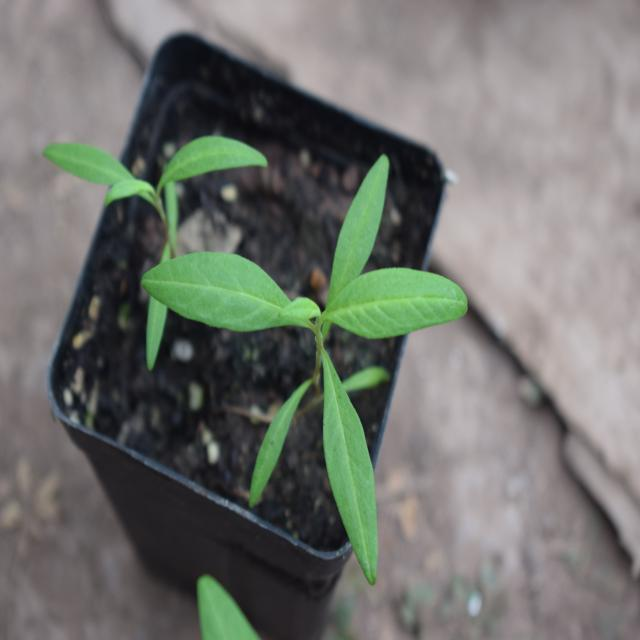white_smart_weed: (121, 192, 480, 596), (28, 116, 294, 288)
